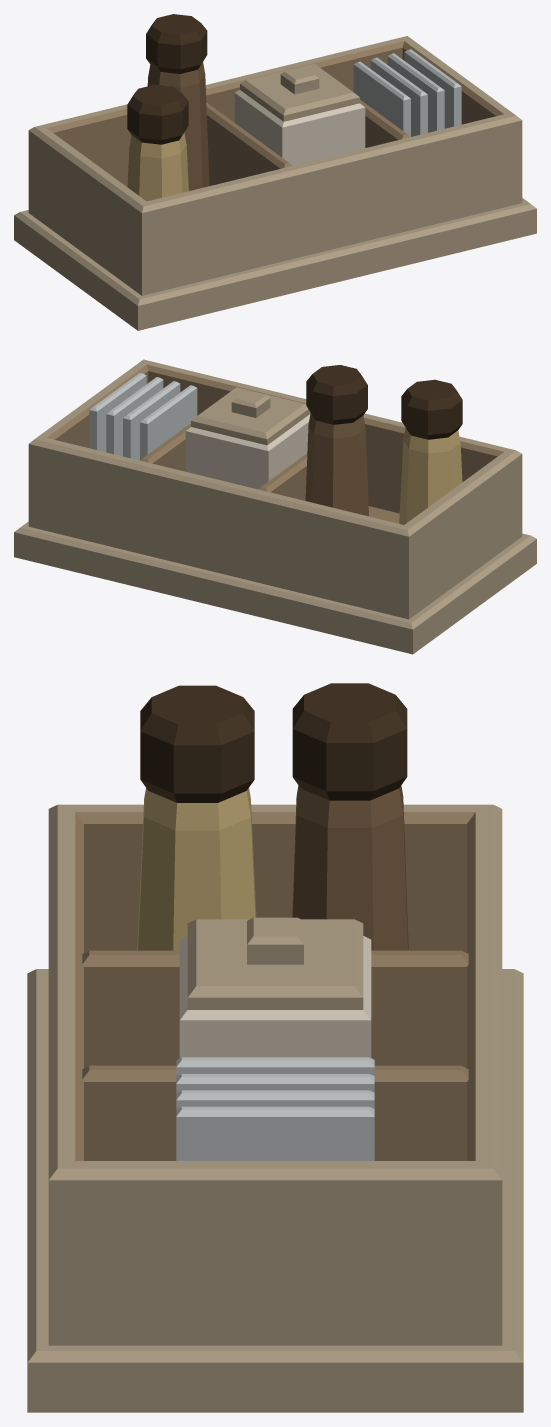
File: condiment-caddy-500e44.glb
3 views of the same model, one above another, from view 1: azimuth 30°, elevation 25°; view 2: azimuth 150°, elevation 25°; view 3: azimuth 270°, elevation 25° (orthographic). The views are drawn at different scales.
Visible parts, largest first — view 1: caddy, sugar-pot-mesh, napkin-stack, shaker-salt, shaker-pepper; view 2: caddy, sugar-pot-mesh, shaker-pepper, shaker-salt, napkin-stack; view 3: caddy, shaker-pepper, shaker-salt, sugar-pot-mesh, napkin-stack.
Part boxes in pixels (left/top/right/bottom): caddy: left=14, top=36, right=536, bottom=330; sugar-pot-mesh: left=234, top=63, right=365, bottom=165; napkin-stack: left=353, top=49, right=461, bottom=136; shaker-salt: left=127, top=84, right=188, bottom=201; shaker-pepper: left=146, top=14, right=209, bottom=190; caddy: left=14, top=359, right=536, bottom=654; sugar-pot-mesh: left=185, top=387, right=310, bottom=489; shaker-pepper: left=305, top=365, right=368, bottom=516; shaker-salt: left=399, top=379, right=462, bottom=524; napkin-stack: left=89, top=373, right=197, bottom=460; caddy: left=27, top=804, right=523, bottom=1412; shaker-pepper: left=292, top=683, right=408, bottom=950; shaker-salt: left=137, top=685, right=256, bottom=950; sugar-pot-mesh: left=179, top=917, right=371, bottom=1057; napkin-stack: left=176, top=1057, right=374, bottom=1160.
Size of the model in its own units: 0.26 by 0.136 by 0.14.
